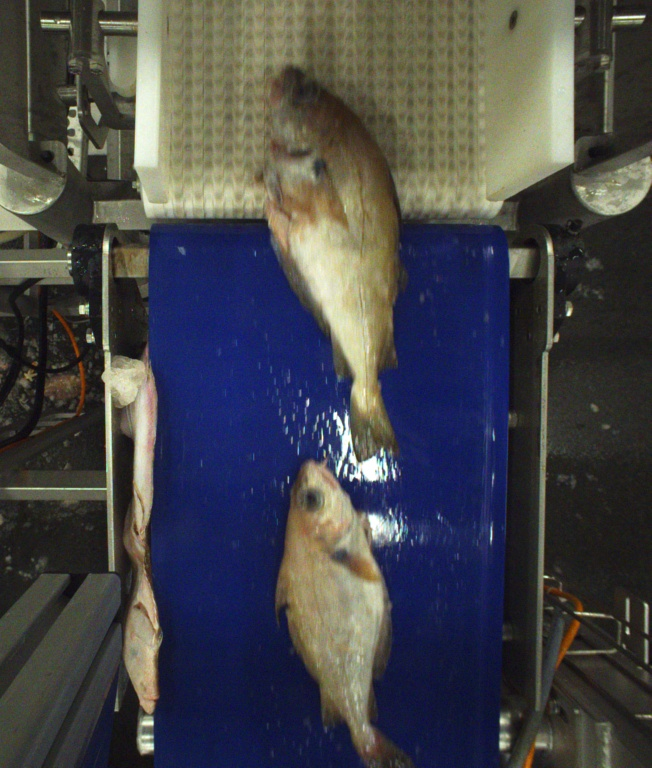BIB: (250, 62, 404, 463)
